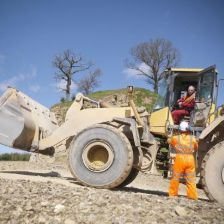head: (185, 84, 197, 97)
helmet: (177, 121, 191, 135)
